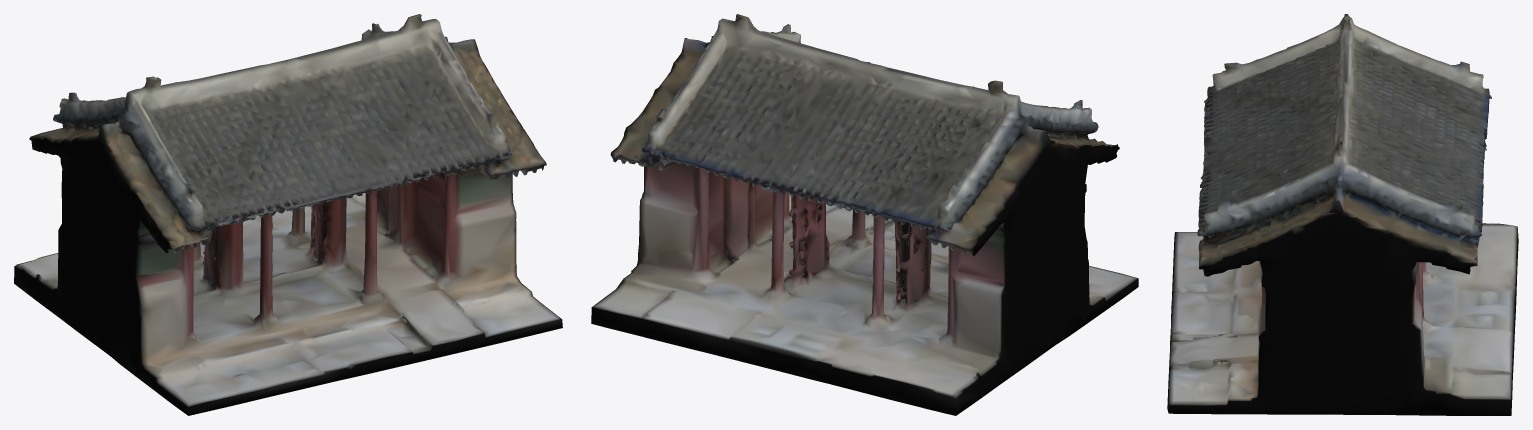
File: sajeongmun-lod.glb
3 views of the same model, side by side, from view 1: azimuth 30°, elevation 25°; view 2: azimuth 150°, elevation 25°; view 3: azimuth 270°, elevation 25° (orthographic). The views are drawn at different scales.
Bounding box in the file's own units: 1.01 × 0.6666 × 0.8502.
